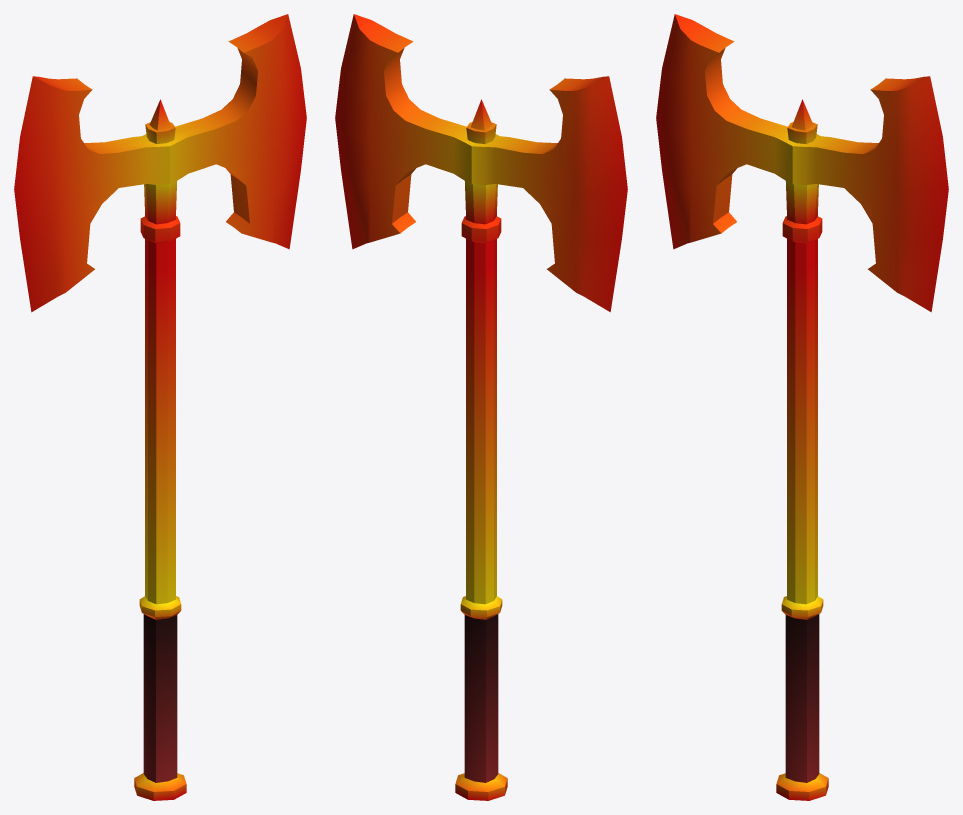
File: Axe.fbx
3 views of the same model, side by side, from view 1: azimuth 30°, elevation 25°; view 2: azimuth 150°, elevation 25°; view 3: azimuth 330°, elevation 25° (orthographic).
Parts seen in each view (by area): view 1: Axe Red; view 2: Axe Red; view 3: Axe Red.
Part boxes in pixels (x1,y1,x2,y2): Axe Red: (14,14,306,800); Axe Red: (335,14,627,800); Axe Red: (656,14,948,800).
Size of the model in its own units: 43.42 by 106 by 6.94.
